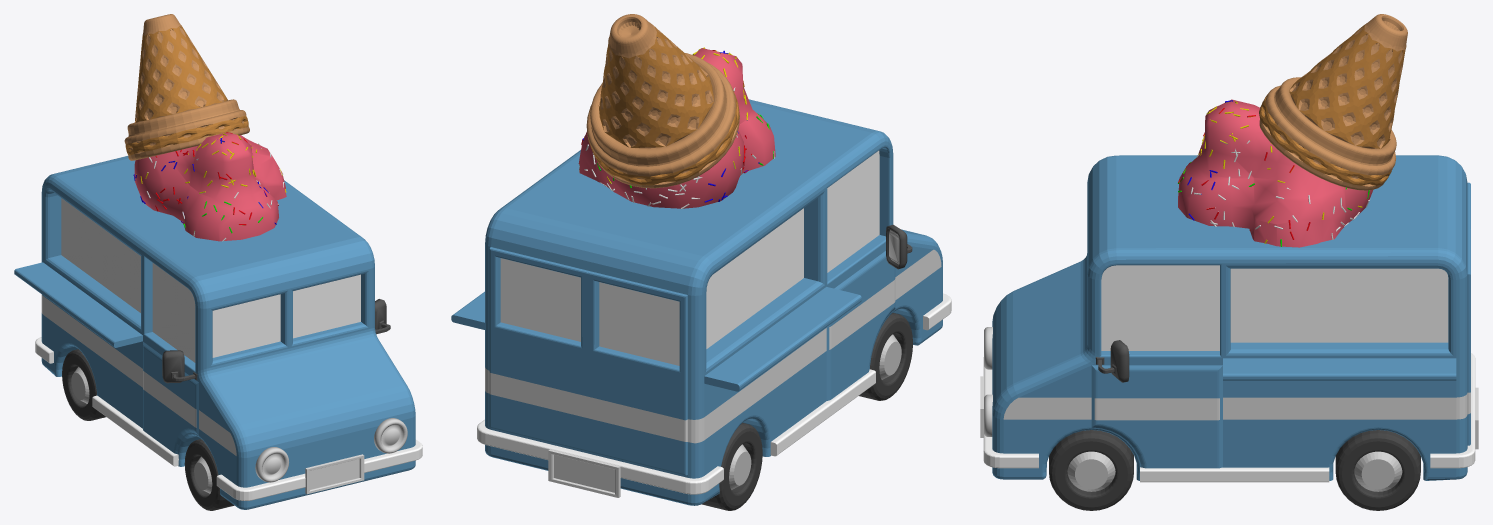
Rendered from icecreamtruck1.fbx.
The picture shows the model from 3 angles, left to right: view 1: azimuth 30°, elevation 25°; view 2: azimuth 150°, elevation 25°; view 3: azimuth 270°, elevation 25°; orthographic projection. The views are drawn at different scales.
Parts seen in each view (by area): view 1: Circle, Mball.006, Circle.006, Circle.004, Circle.001, Circle.005, Circle.002, Plane, Cube.001, Cylinder.201; view 2: Circle, Circle.006, Mball.006, Circle.004, Circle.002, Circle.001, Plane.001, Cylinder.201, Cube.001; view 3: Circle, Circle.006, Mball.006, Circle.002, Circle.001, Circle.004, Cylinder.201, Cube.001, Circle.005.
Boxes of the visible parts, <box> form: Circle: <box>14,156,415,509</box>; Mball.006: <box>134,132,286,241</box>; Circle.006: <box>124,14,249,160</box>; Circle.004: <box>35,337,422,500</box>; Circle.001: <box>184,439,234,510</box>; Circle.005: <box>255,418,407,482</box>; Circle.002: <box>62,349,105,420</box>; Plane: <box>305,454,364,494</box>; Cube.001: <box>162,299,390,383</box>; Cylinder.201: <box>133,132,286,241</box>; Circle: <box>451,99,942,505</box>; Circle.006: <box>586,14,739,188</box>; Mball.006: <box>578,48,775,208</box>; Circle.004: <box>477,293,951,494</box>; Circle.002: <box>701,422,762,510</box>; Circle.001: <box>859,313,912,400</box>; Plane.001: <box>548,449,620,497</box>; Cylinder.201: <box>579,47,774,209</box>; Cube.001: <box>886,224,912,269</box>; Circle: <box>992,155,1470,480</box>; Circle.006: <box>1259,14,1407,190</box>; Mball.006: <box>1178,99,1372,247</box>; Circle.002: <box>1335,430,1420,510</box>; Circle.001: <box>1049,430,1133,510</box>; Circle.004: <box>983,353,1475,482</box>; Cylinder.201: <box>1178,100,1370,246</box>; Cube.001: <box>1095,340,1129,382</box>; Circle.005: <box>984,327,992,436</box>.
Bounding box in the file's own units: 693 × 1076 × 1089.
